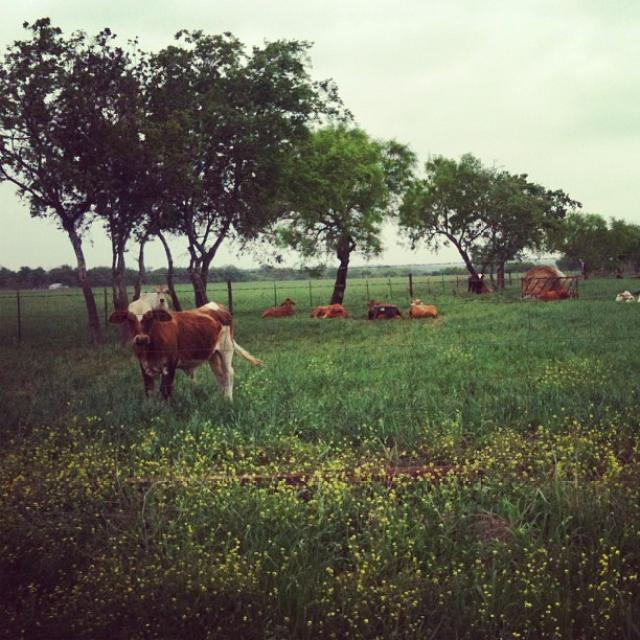cow: (105, 298, 262, 415), (139, 284, 173, 310), (259, 296, 294, 319), (365, 299, 405, 318), (408, 298, 437, 317), (311, 303, 345, 317), (533, 289, 571, 299), (465, 272, 483, 293), (614, 289, 634, 301)
